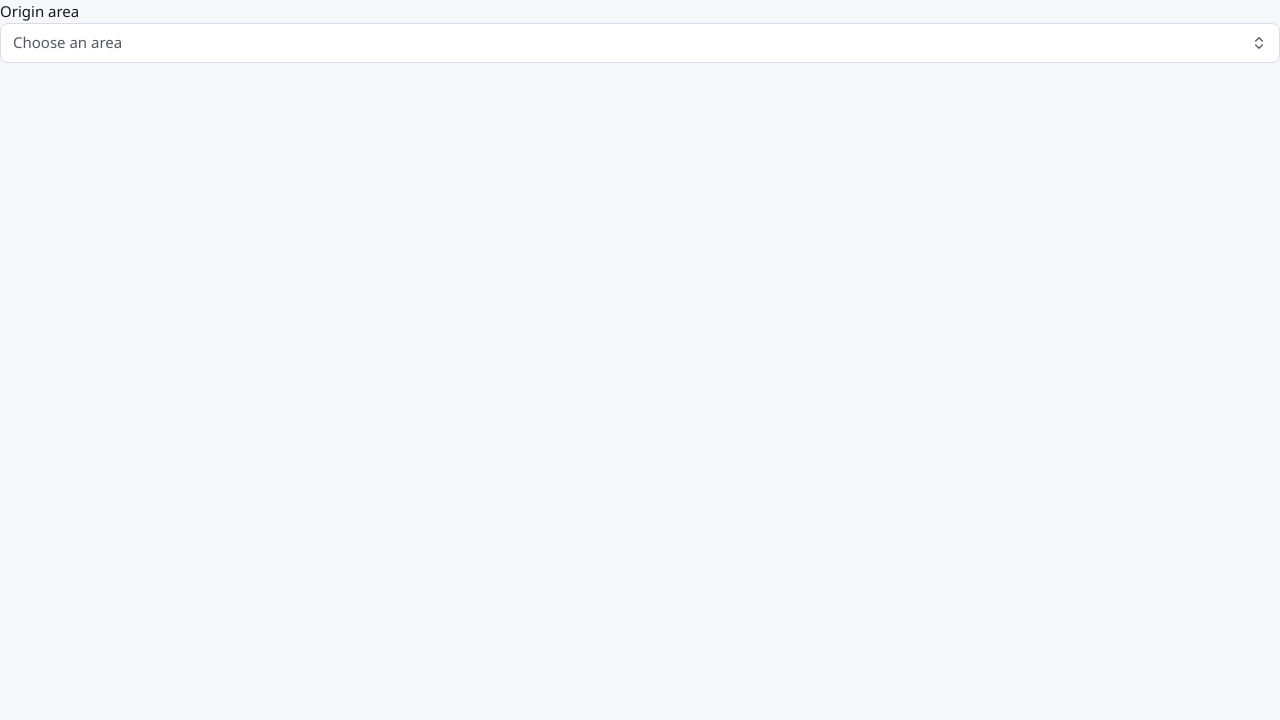
AreaPicker › never offers the previous results while a new search is pending
Later steps or results of the test are not shown.
Click the dropdown named "Origin area" at (68, 42), box [0, 22, 1279, 62]
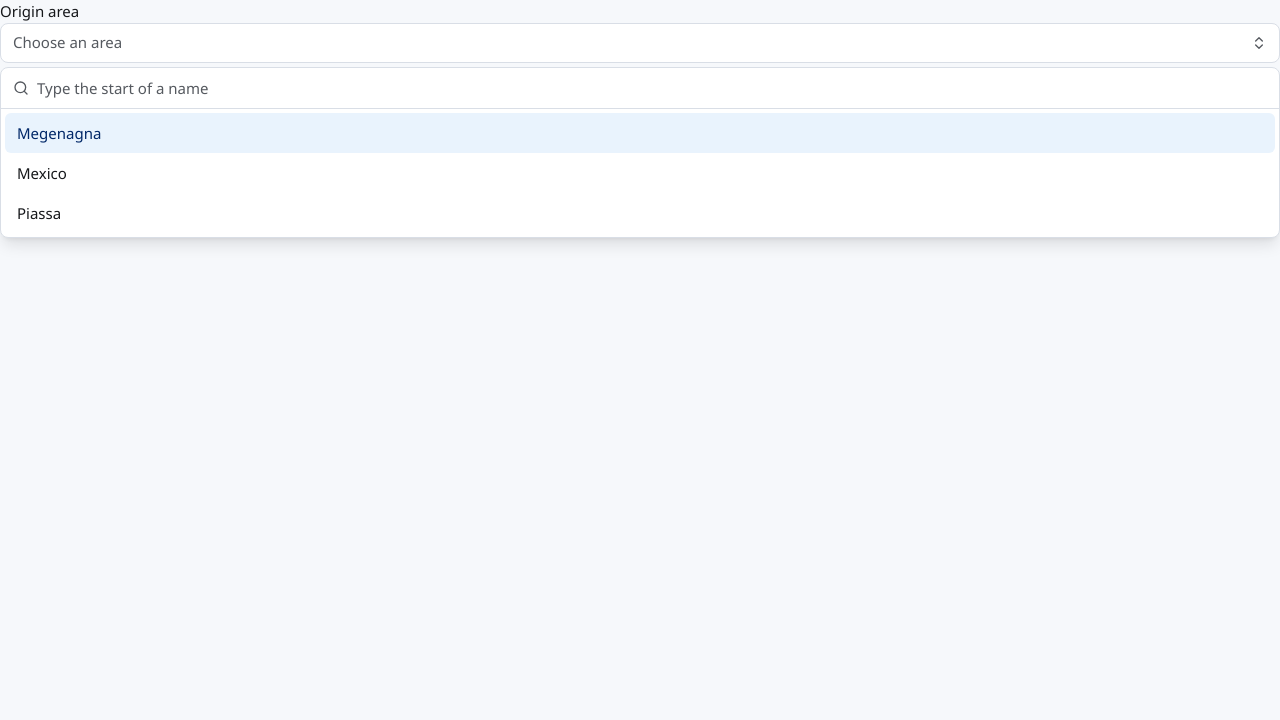
Check: the option "Piassa" is shown, box [17, 203, 61, 223]
Type "me" into the dropdown named "Search areas" at (652, 88), box [37, 68, 1267, 108]
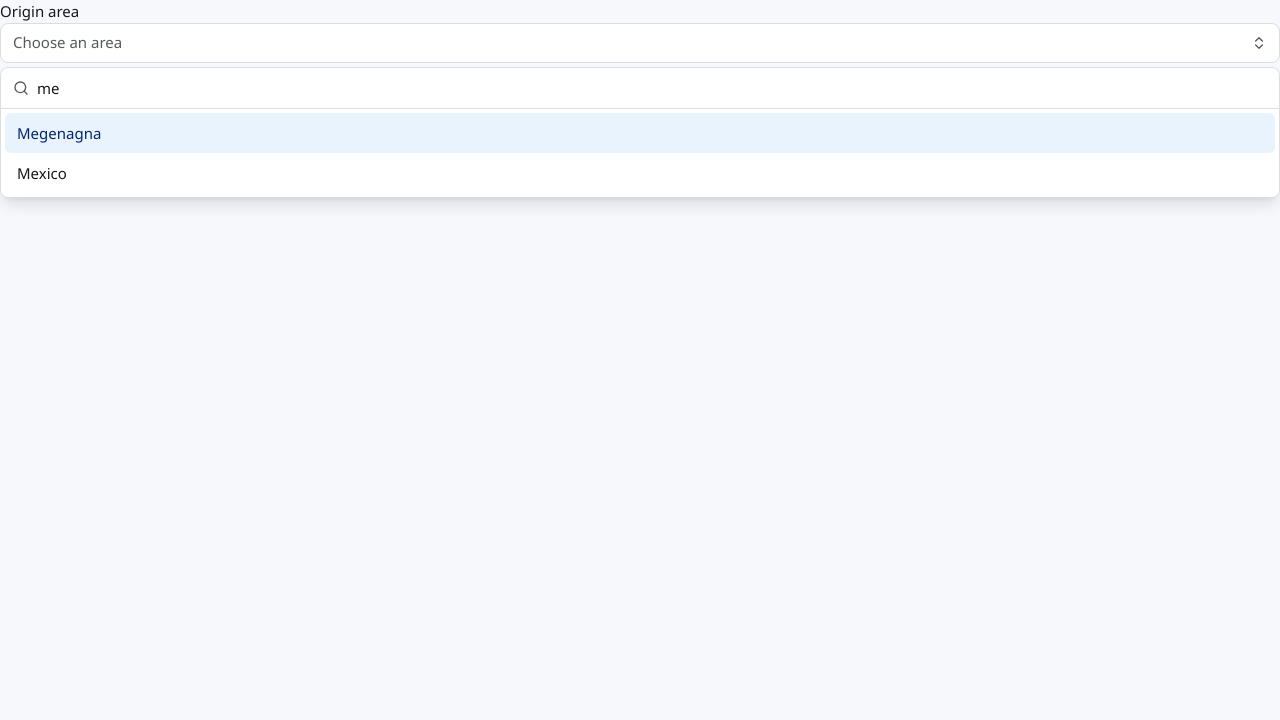
Check: the option "Mexico" is shown, box [17, 163, 67, 183]
Check: the option "Piassa" is gone
